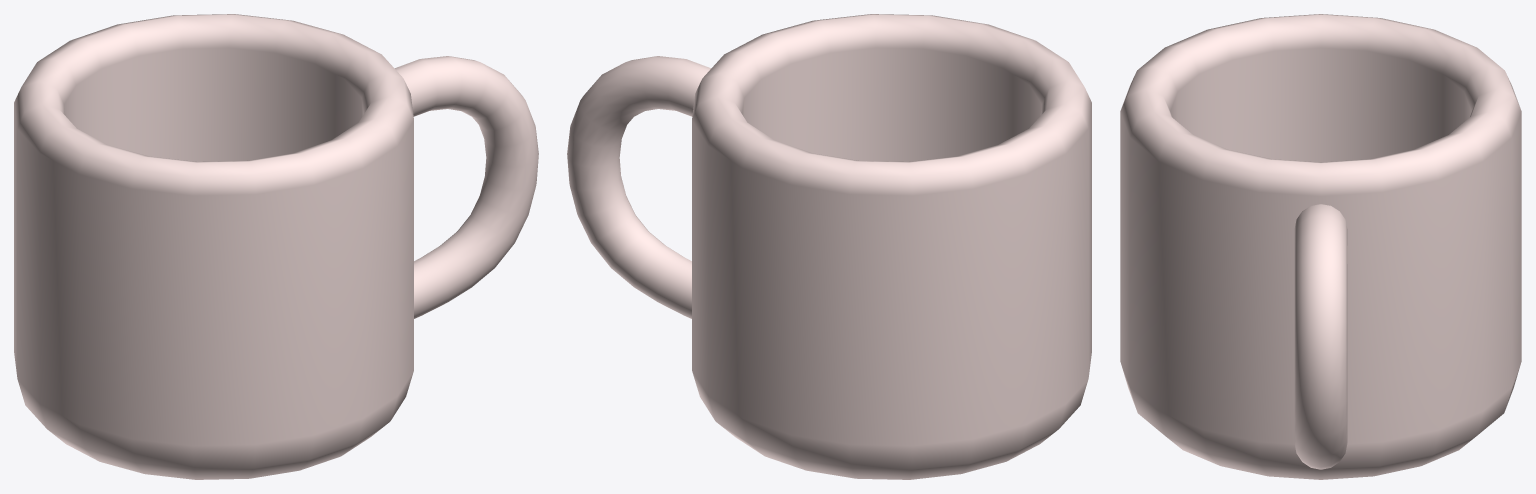
The model's file is Town_13_Cup_2.glb.
3 renders of one model, left to right at view 1: azimuth 30°, elevation 25°; view 2: azimuth 150°, elevation 25°; view 3: azimuth 270°, elevation 25°, orthographic.
Parts seen in each view (by area): view 1: Town_13_Cup_2; view 2: Town_13_Cup_2; view 3: Town_13_Cup_2.
Boxes of the visible parts, x1,y1,x2,y2 form: Town_13_Cup_2: [14, 14, 538, 479]; Town_13_Cup_2: [567, 14, 1091, 479]; Town_13_Cup_2: [1120, 14, 1521, 479].
Size of the model in its own units: 0.2288 by 0.144 by 0.1608.
1 material, 1 textured.
